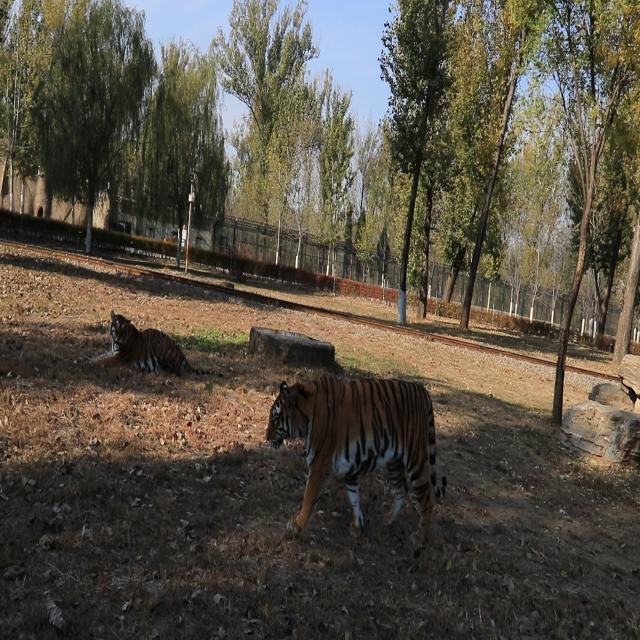Tiger: (266, 375, 464, 557), (86, 306, 223, 384)
